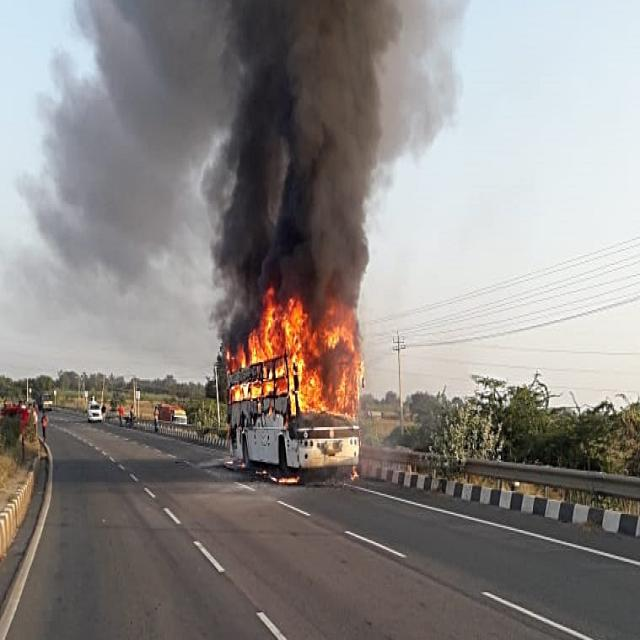accident: (226, 290, 361, 470)
